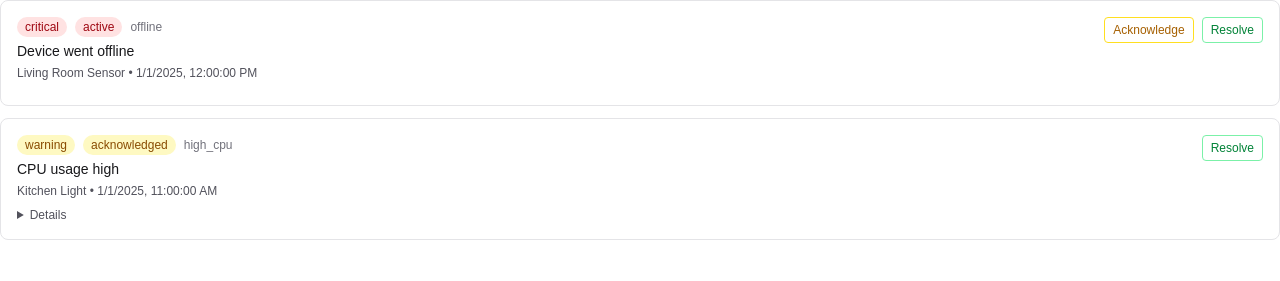
Test case: AlertList › expands details when Details is clicked
The image size is (1280, 281).
Click the heading "Details". click: click(48, 215)
box: [30, 208, 66, 222]
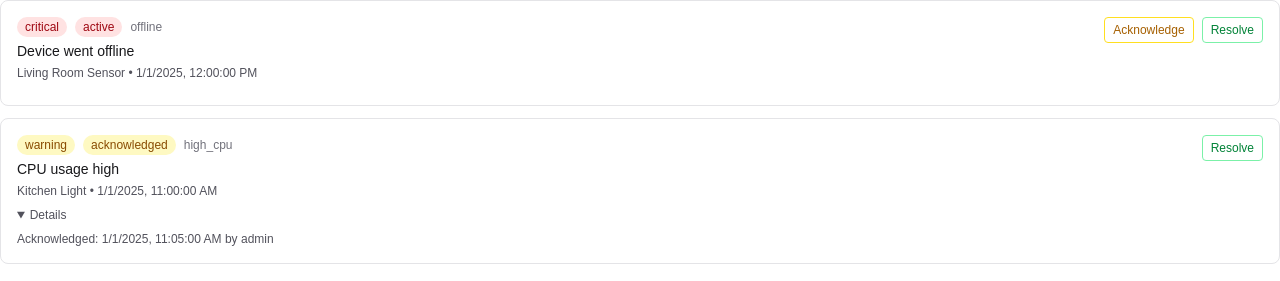
Check: the text "Acknowledged:" is shown, box [17, 232, 98, 246]
Check: the text "Acknowledged: 1/1/2025, 11:05:00 AM by admin" is shown, box [17, 232, 274, 246]
